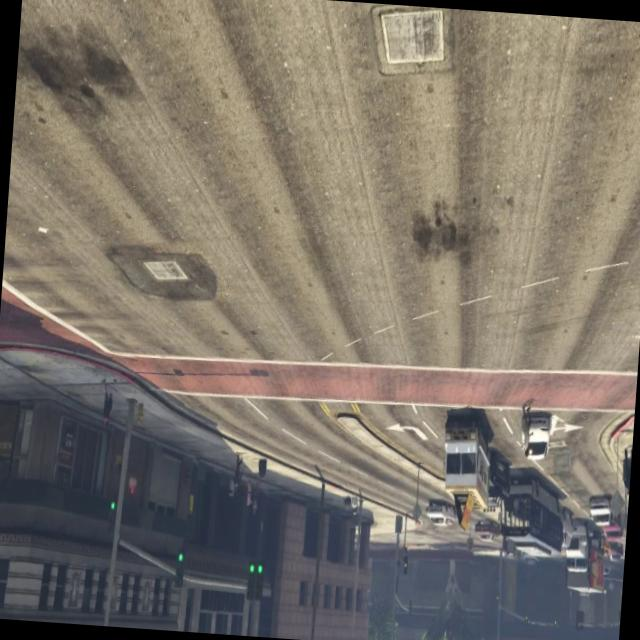Green-Signal: (238, 549, 270, 608), (170, 542, 188, 596), (102, 491, 120, 540)
